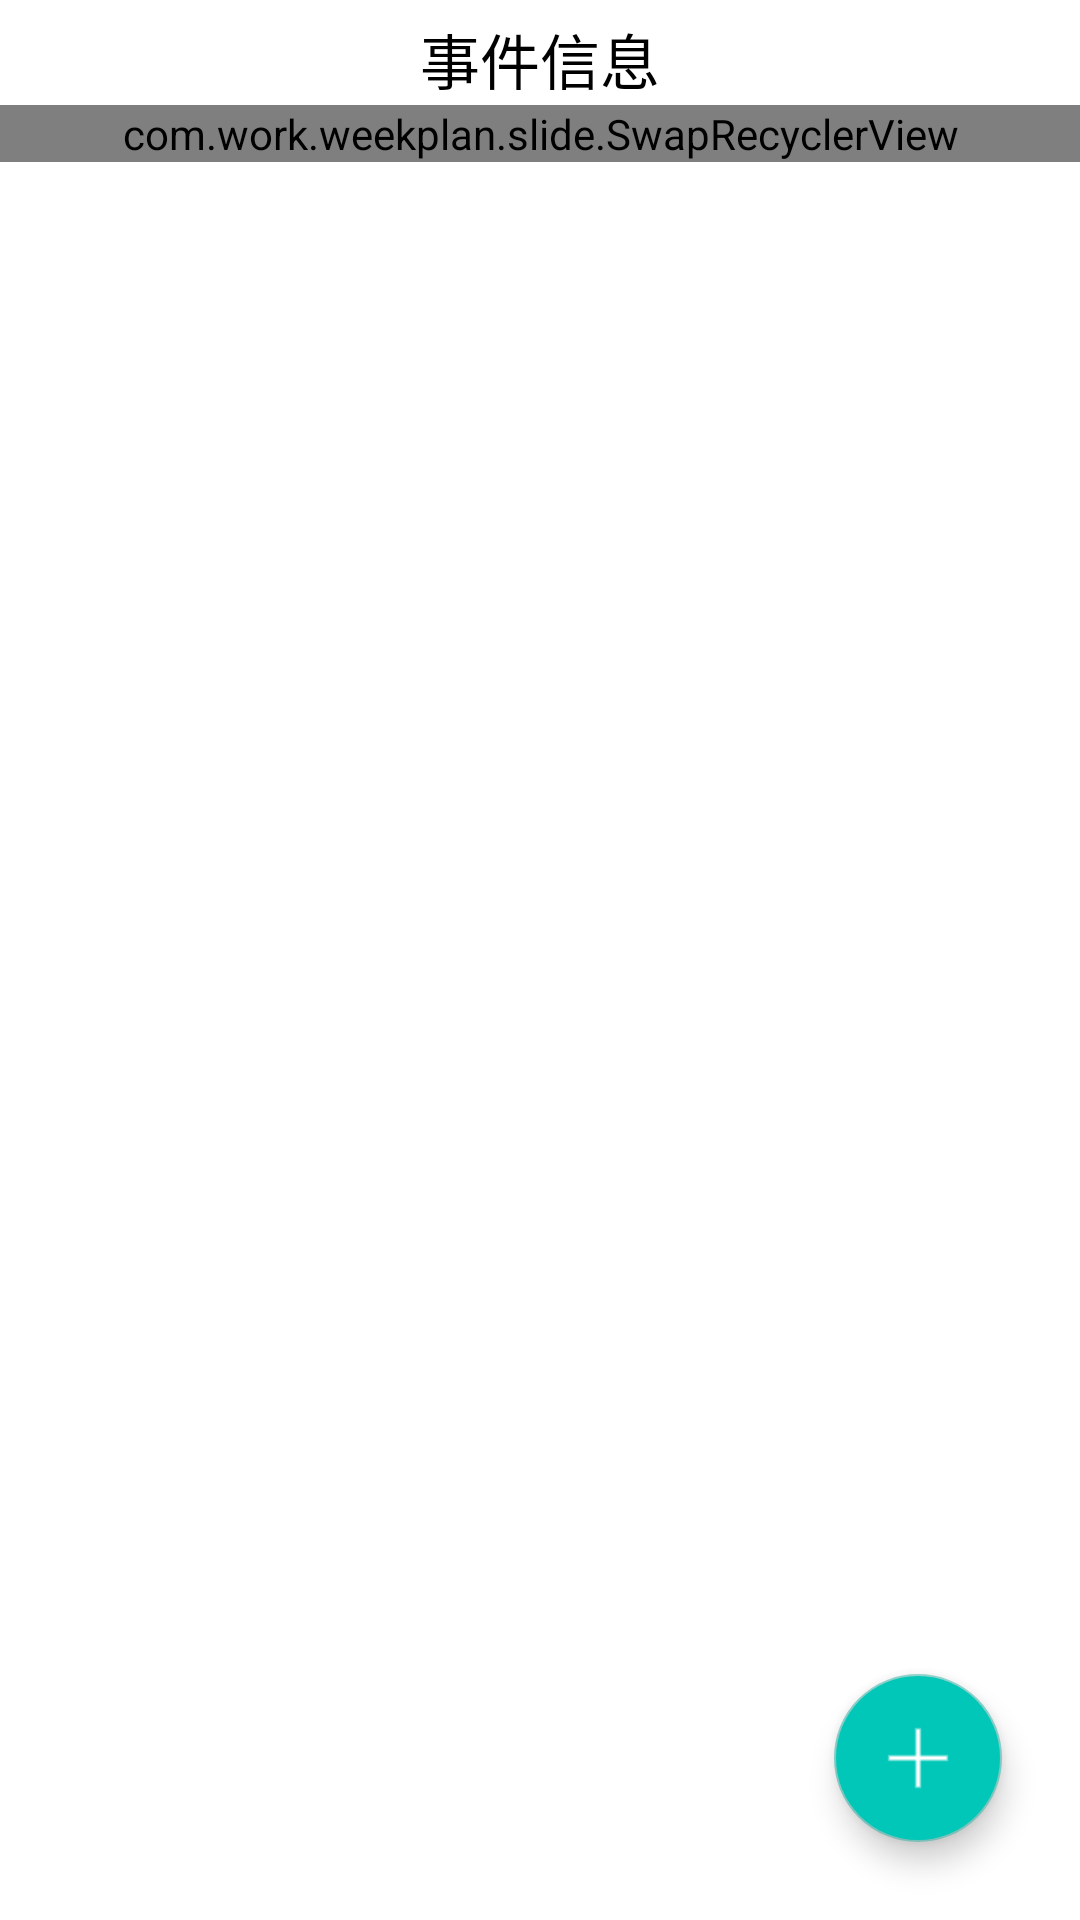

Screen size 1080 x 1920. Icon name, then its box in pixels as [x1, y1, x2, y2]:
plus: [834, 1674, 1002, 1842]
